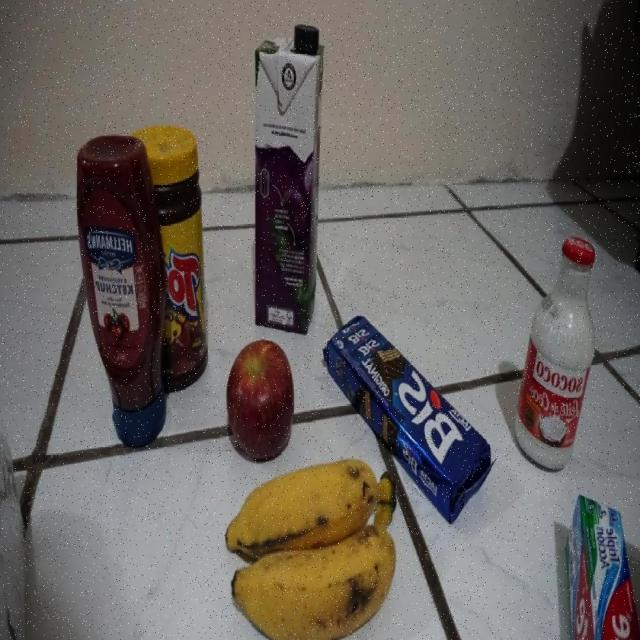Apple: (226, 338, 296, 464)
Banana: (224, 458, 398, 640)
ChocolatePowder: (157, 126, 210, 393)
CoconutMilk: (514, 237, 598, 473)
Ketchup: (74, 133, 167, 451)
Toothpaste: (565, 492, 640, 640)
